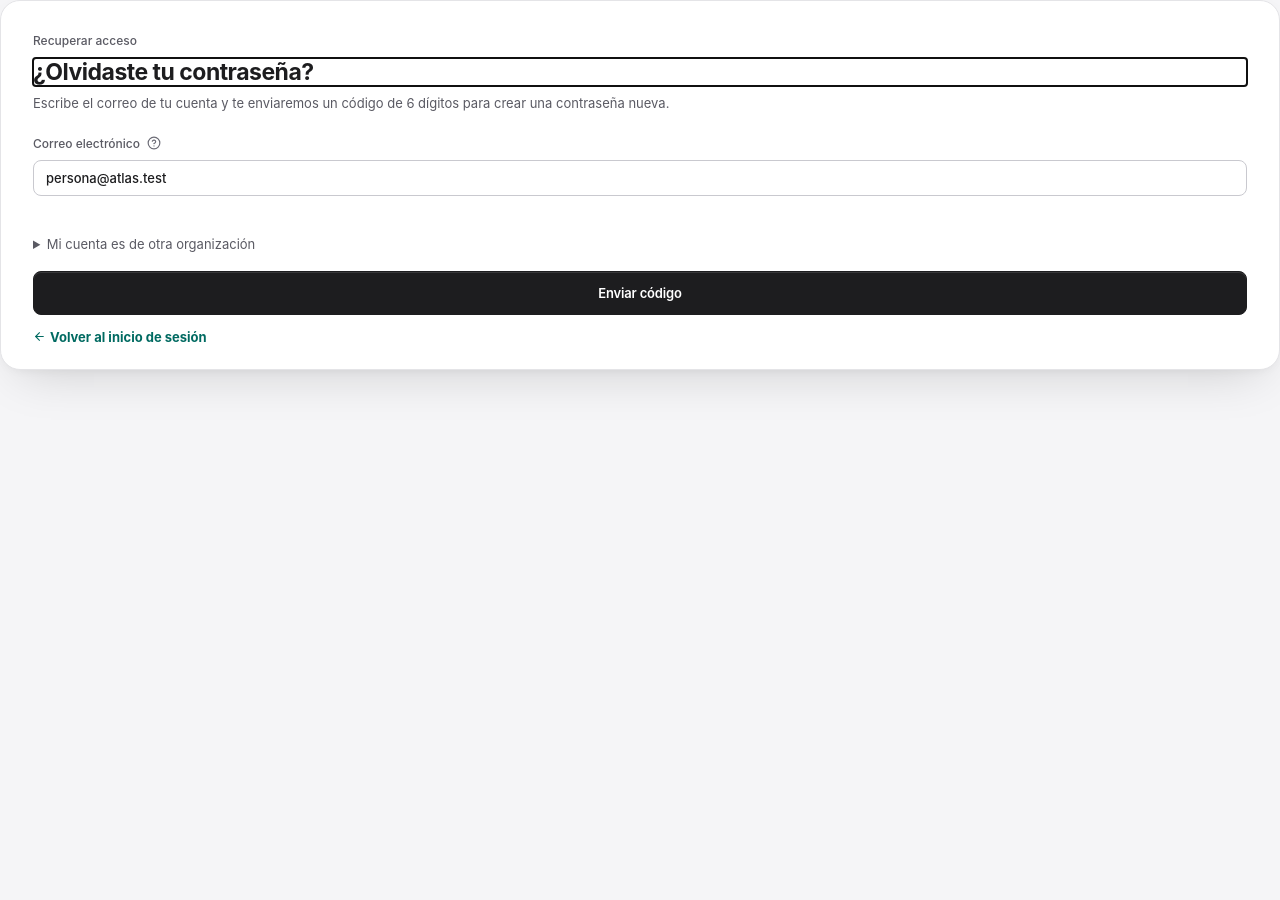
Test: PasswordRecovery › un código malo explica qué hacer y conserva lo escrito
The width and height of the screenshot is (1280, 900).
Click the button "Enviar código" at (640, 293), box [33,271,1247,315]
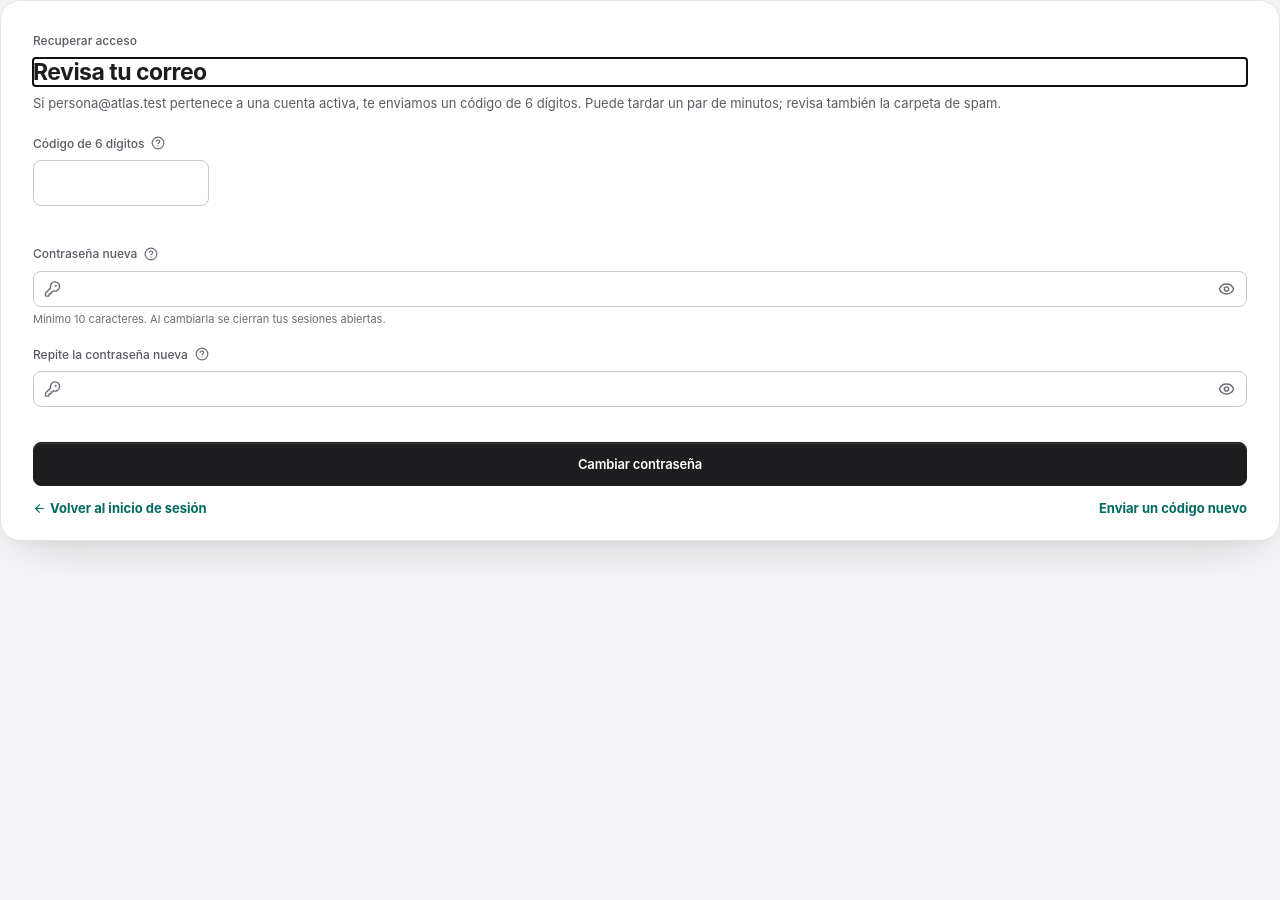
Now the heading "Revisa tu correo" is shown, box [33,58,207,86]
Type "000000" into the field labelled "Código de 6 dígitos" at (121, 183), box [33,160,209,206]
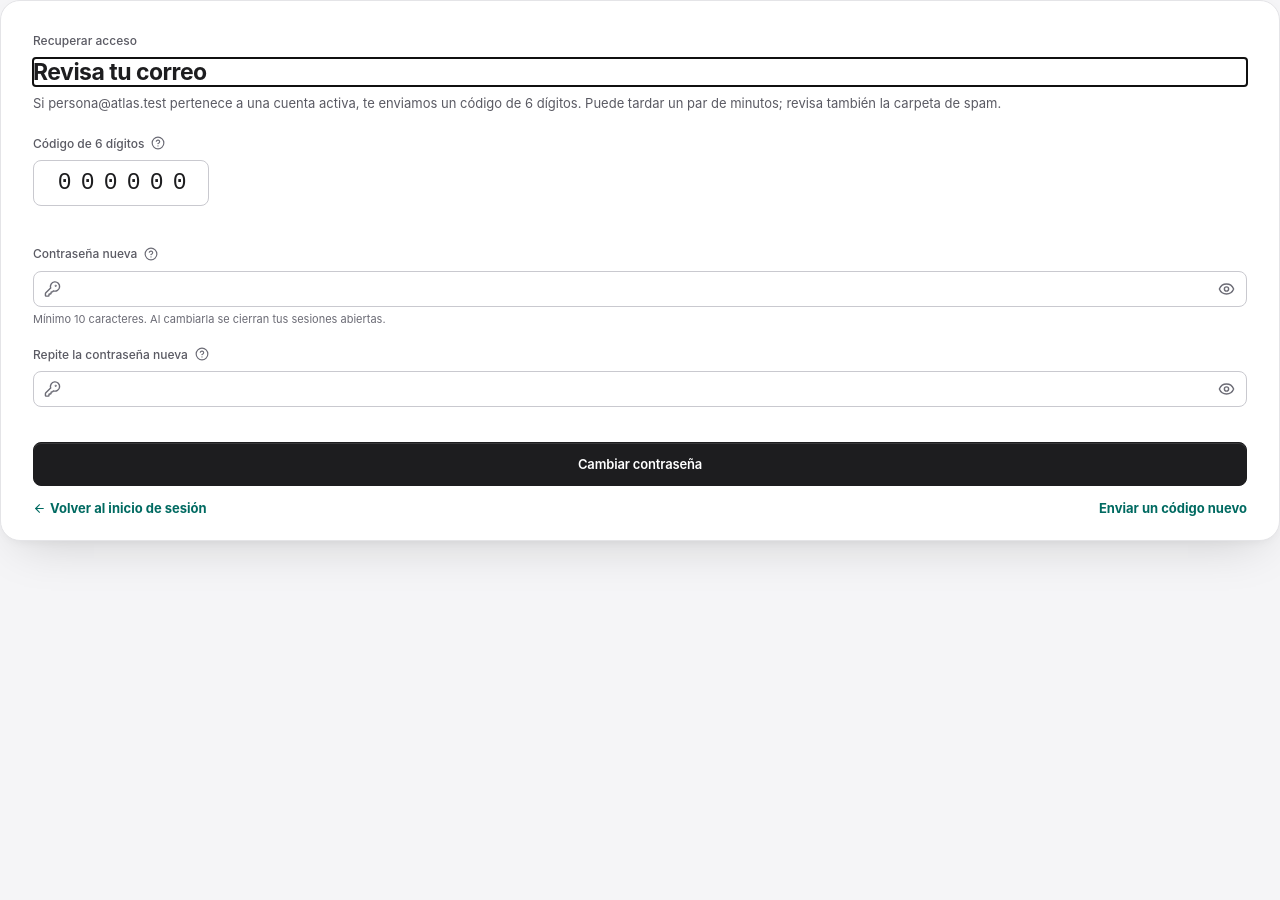
Type "una-clave-nueva-larga" into the password field labelled "Contraseña nueva" at (640, 289), box [33,271,1247,307]
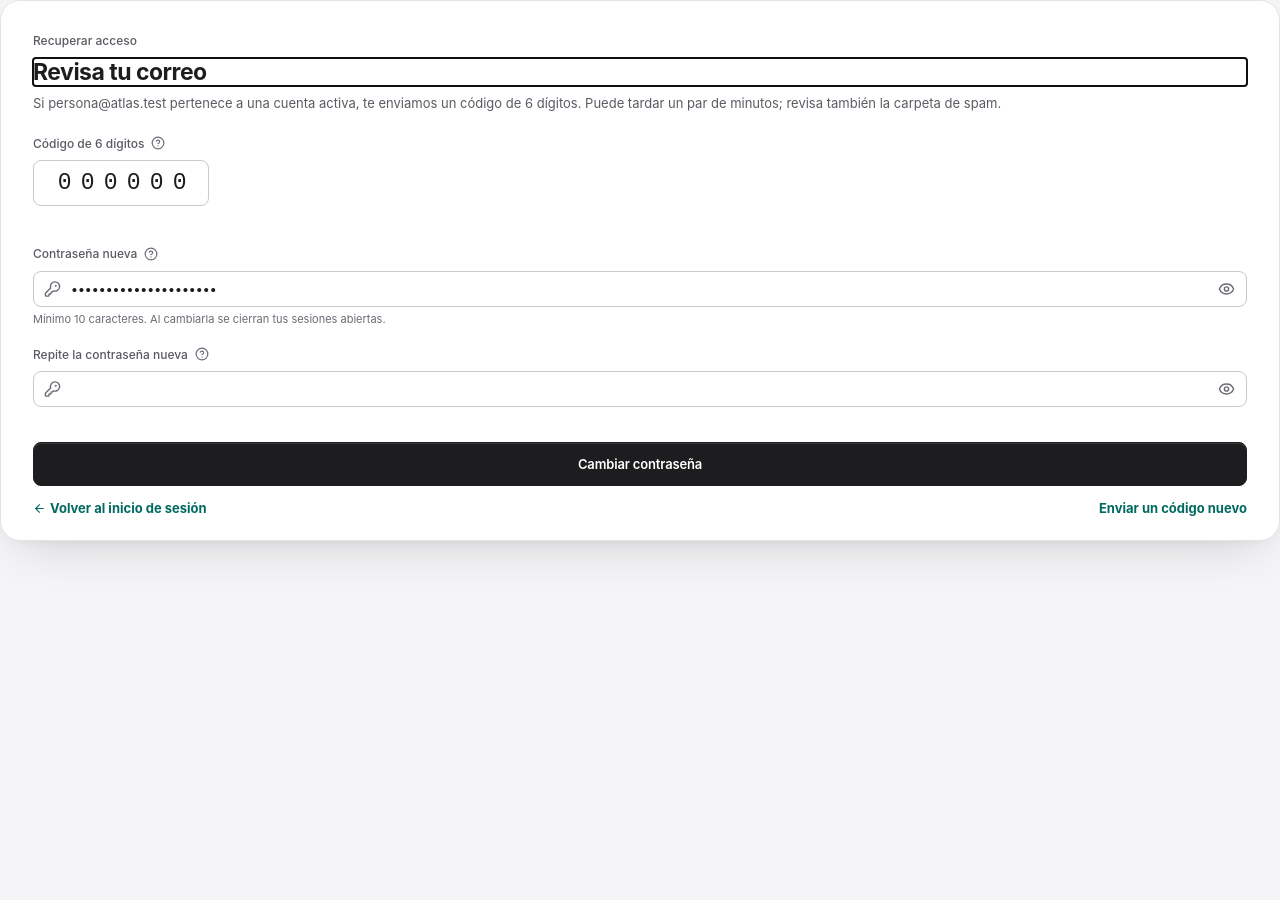
Type "una-clave-nueva-larga" into the password field labelled "Repite la contraseña nueva" at (640, 389), box [33,371,1247,407]
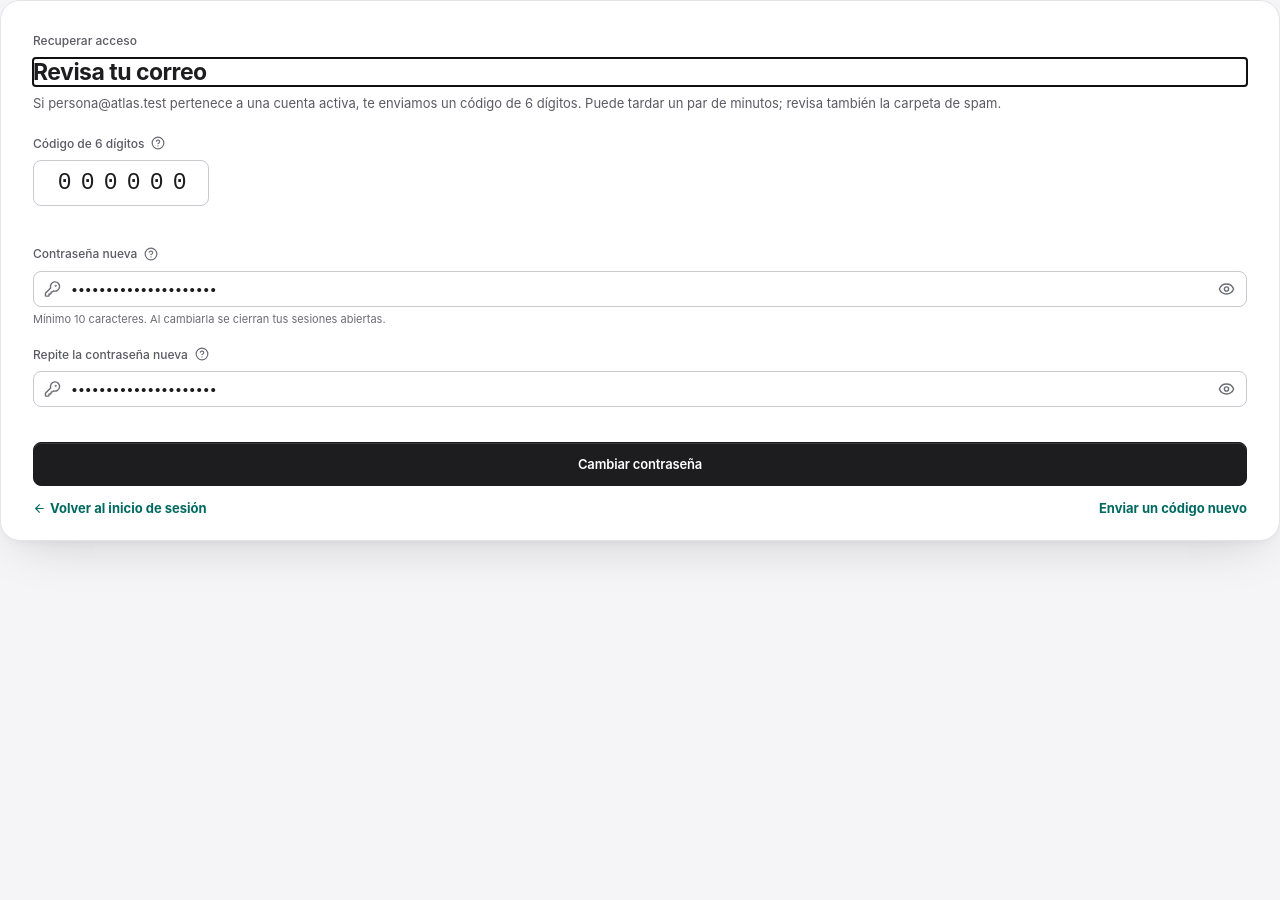
Click the button "Cambiar contraseña" at (640, 464), box [33,442,1247,486]
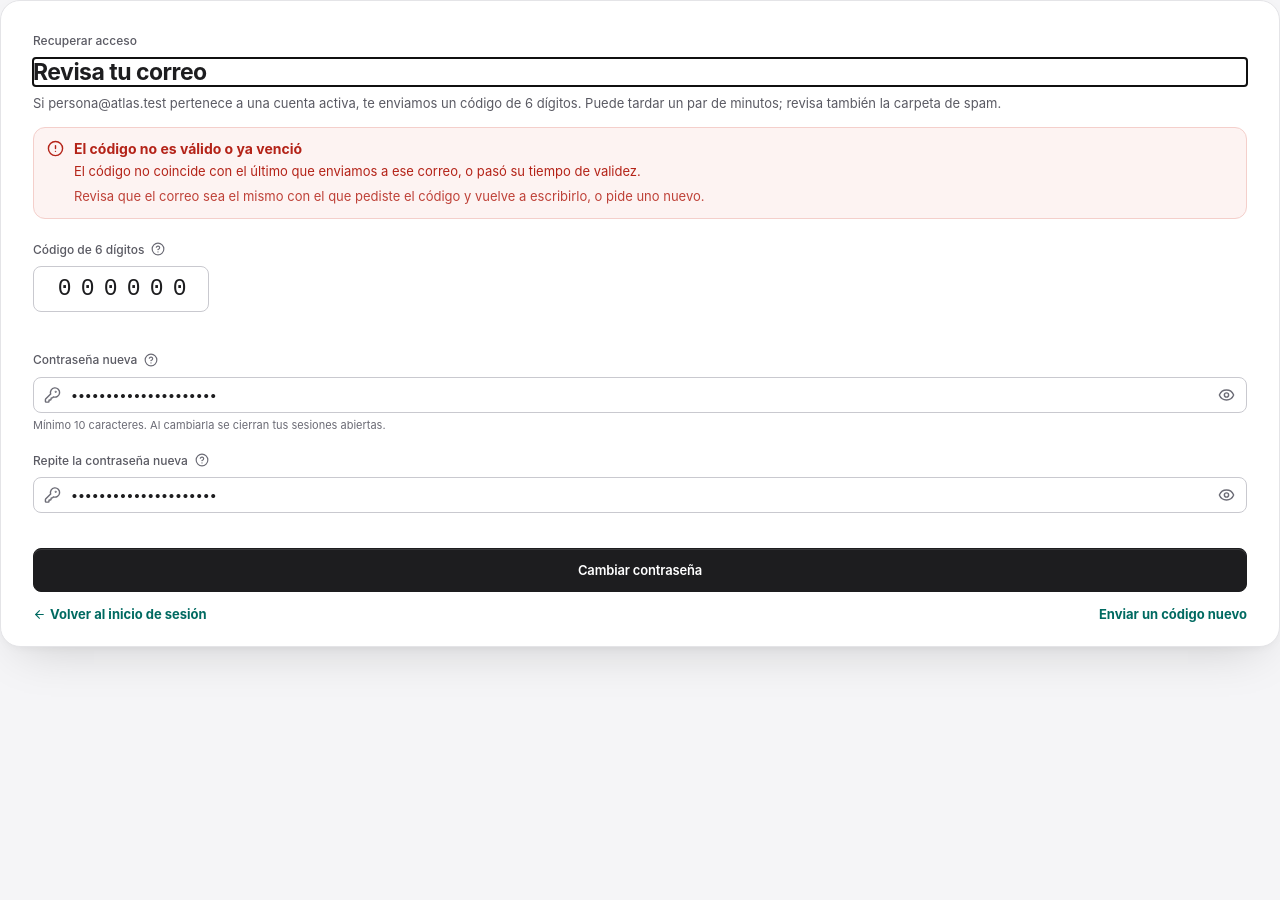
Now the text "El código no es válido o ya venció" is shown, box [74,140,302,157]
